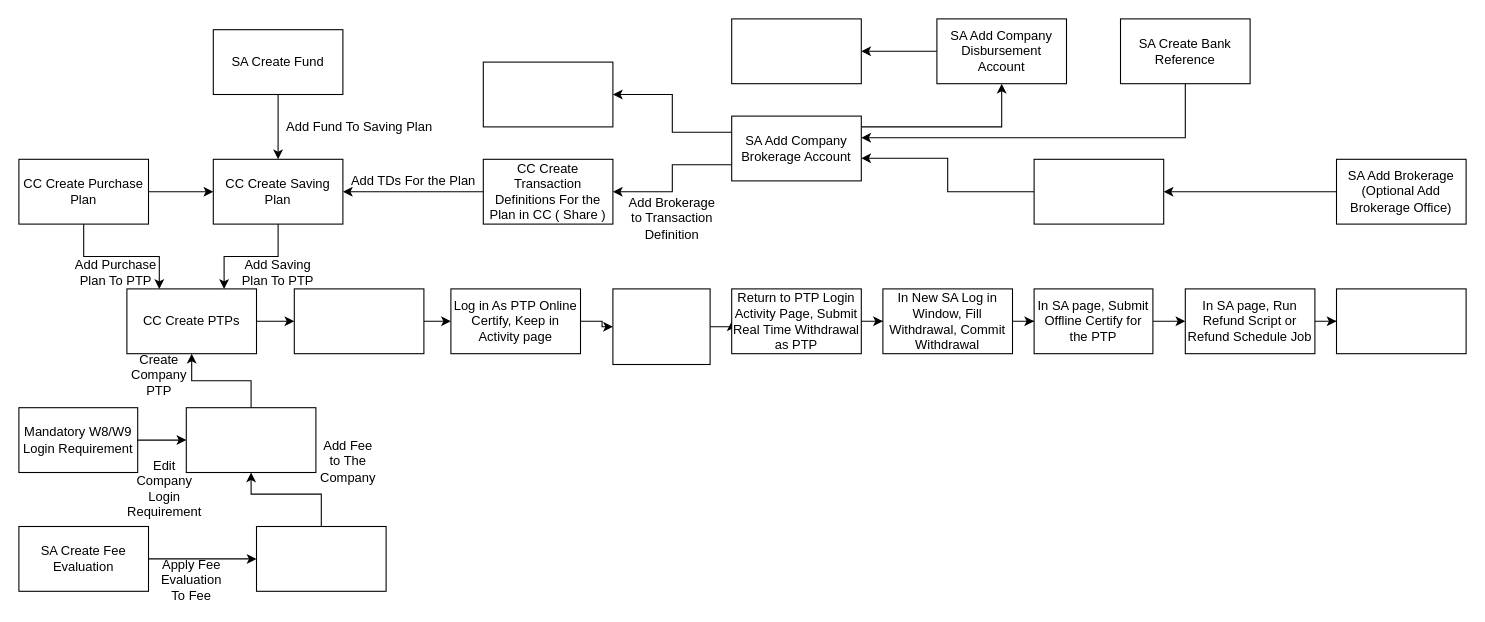
This 1485x622 diagram has some shape labels left out. The shapes that lost their labels are listed below. From the top down, each one's centre as x and y in pixels, then its label:
point 796,51: SA Add Company Brokerage Routes
point 547,94: SA Add Brokerage to Company Fund ( Award)
point 1098,191: SA Add the Brokerage To SA's Account Security Management
point 358,321: SA Add Holding Adjustment For PTPs
point 661,326: Log in As SA in a new window, decertify PTP by "name mismatch"
point 1400,321: In SA page, Observe the Refund
point 250,440: SA Find A Company
point 320,558: SA Create Fee
